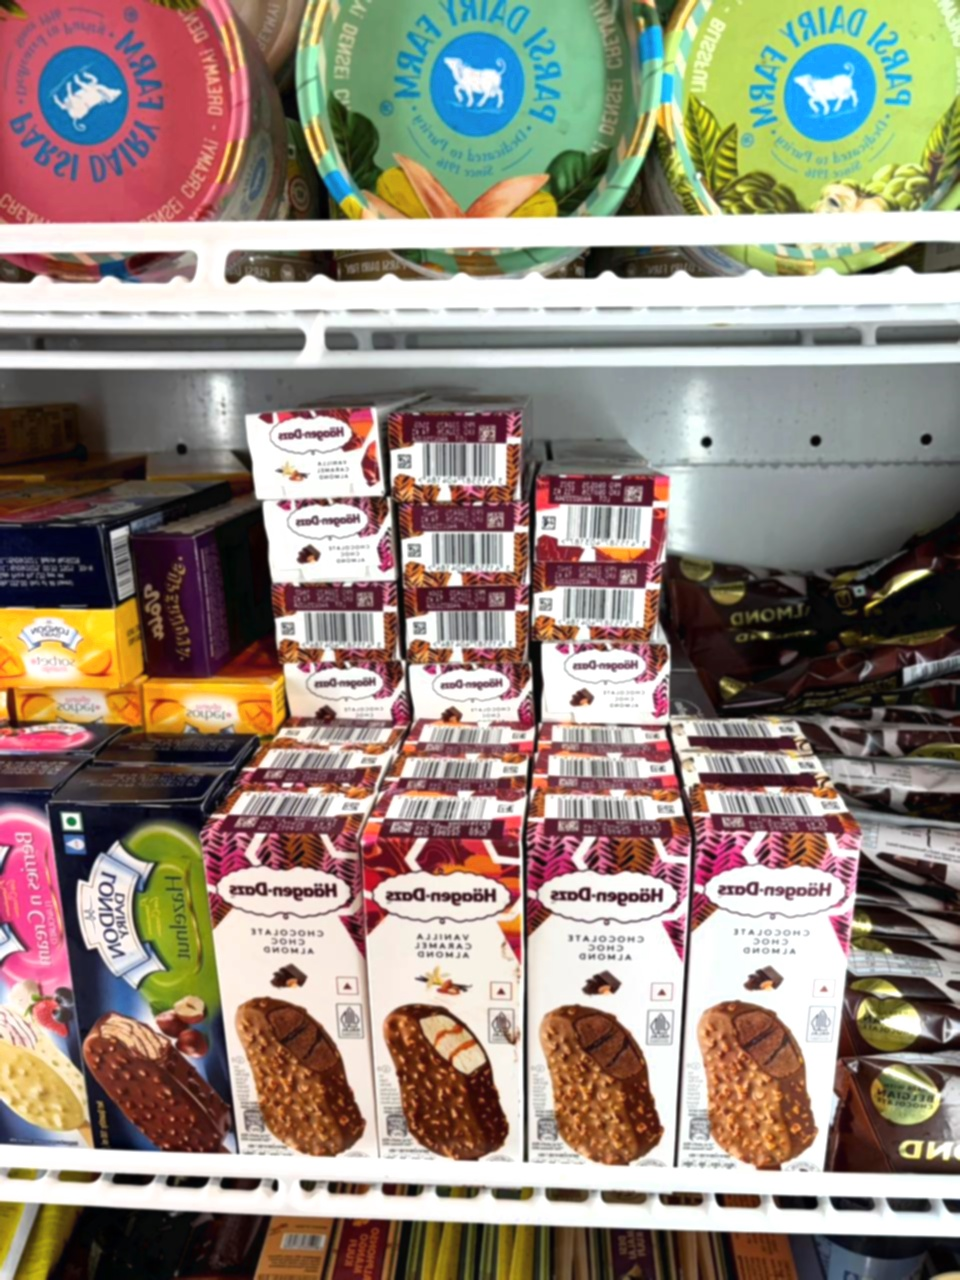Haagen-Dazs IceCream Bars: (668, 784, 860, 1176), (205, 778, 393, 1168), (367, 771, 527, 1177), (529, 781, 692, 1175), (242, 393, 399, 506), (388, 407, 531, 506), (528, 476, 682, 567), (398, 507, 531, 601), (256, 502, 399, 587), (541, 640, 679, 720), (277, 655, 413, 732), (402, 658, 536, 736), (265, 590, 396, 659), (544, 581, 663, 650), (400, 591, 526, 650)
